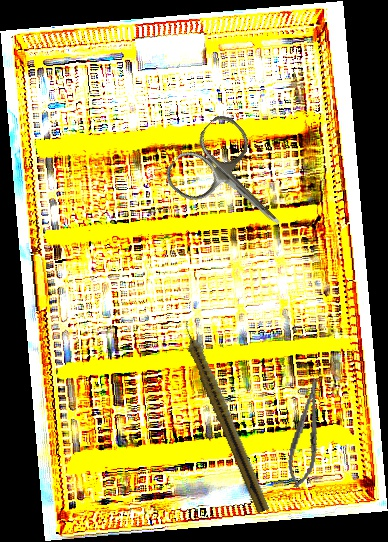Handpiece: (177, 318, 274, 514)
Iris Scissors: (159, 109, 310, 258)
Needle Holder: (283, 375, 330, 491)
